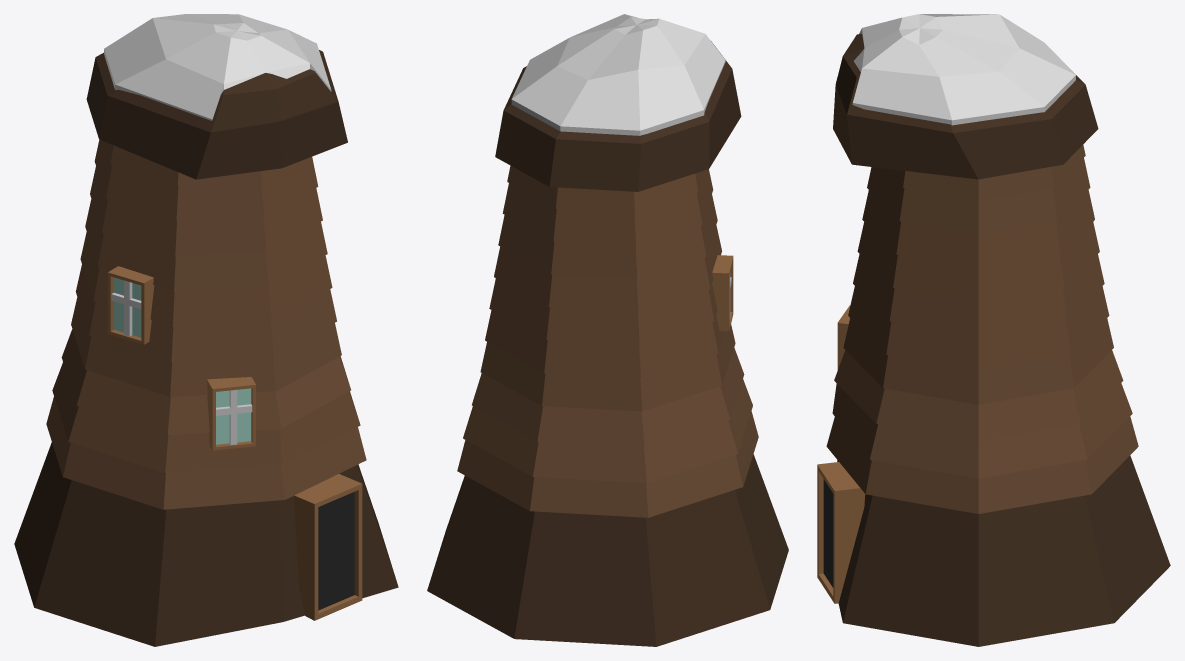
File: windmill_1_snow_mat.fbx
The picture shows the model from 3 angles, left to right: view 1: azimuth 30°, elevation 25°; view 2: azimuth 150°, elevation 25°; view 3: azimuth 270°, elevation 25°; orthographic projection. The views are drawn at different scales.
Parts seen in each view (by area): view 1: windmill_1_snow_mat; view 2: windmill_1_snow_mat; view 3: windmill_1_snow_mat.
Boxes of the visible parts, x1,y1,x2,y2 form: windmill_1_snow_mat: (14, 14, 398, 646); windmill_1_snow_mat: (427, 14, 788, 646); windmill_1_snow_mat: (817, 14, 1170, 646).
Size of the model in its own units: 332 by 516 by 305.
